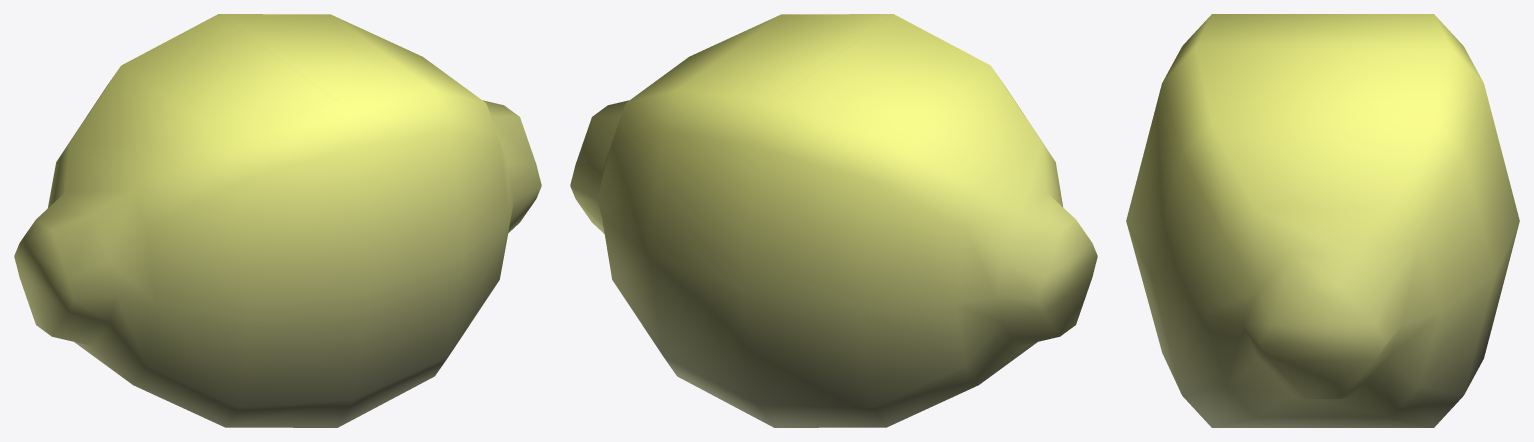
Rendered from Lemon.fbx.
3 views of the same model, side by side, from view 1: azimuth 30°, elevation 25°; view 2: azimuth 150°, elevation 25°; view 3: azimuth 270°, elevation 25° (orthographic). The views are drawn at different scales.
Parts seen in each view (by area): view 1: Lemon; view 2: Lemon; view 3: Lemon.
Boxes of the visible parts, x1,y1,x2,y2 form: Lemon: (14,14,541,427); Lemon: (570,14,1097,427); Lemon: (1126,14,1519,427).
Size of the model in its own units: 255 by 170 by 174.
